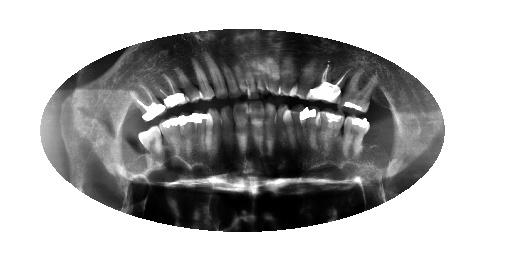i10healthy: (255, 58, 267, 96)
i11healthy: (266, 50, 281, 96)
i12healthy: (280, 51, 298, 98)
i13healthy: (295, 58, 326, 100)
i14healthy: (310, 65, 353, 105)
i15healthy: (339, 67, 379, 112)
i16loss: (372, 78, 392, 117)
i1loss: (118, 87, 144, 126)
i2healthy: (128, 83, 168, 122)
i3healthy: (154, 72, 189, 109)
i4healthy: (174, 63, 202, 106)
i5healthy: (190, 56, 217, 101)
i6healthy: (208, 49, 231, 102)
i7healthy: (224, 52, 243, 99)
i8healthy: (234, 56, 247, 99)
i9decay: (246, 57, 259, 100)
u10healthy: (264, 100, 277, 159)
u11healhty: (274, 103, 288, 157)
u12healthy: (284, 109, 296, 154)
u13healthy: (293, 109, 305, 152)
u14healthy: (301, 105, 320, 153)
u15healthy: (318, 107, 346, 163)
u16healthy: (341, 114, 371, 161)
u1loss: (123, 129, 147, 169)
u2healthy: (137, 125, 166, 166)
u3healthy: (160, 113, 181, 171)
u4healthy: (179, 114, 194, 161)
u5healthy: (194, 111, 210, 161)
u6healthy: (208, 107, 219, 157)
u7healthy: (220, 106, 234, 156)
u8healthy: (233, 102, 249, 158)
u9healthy: (248, 101, 266, 158)
